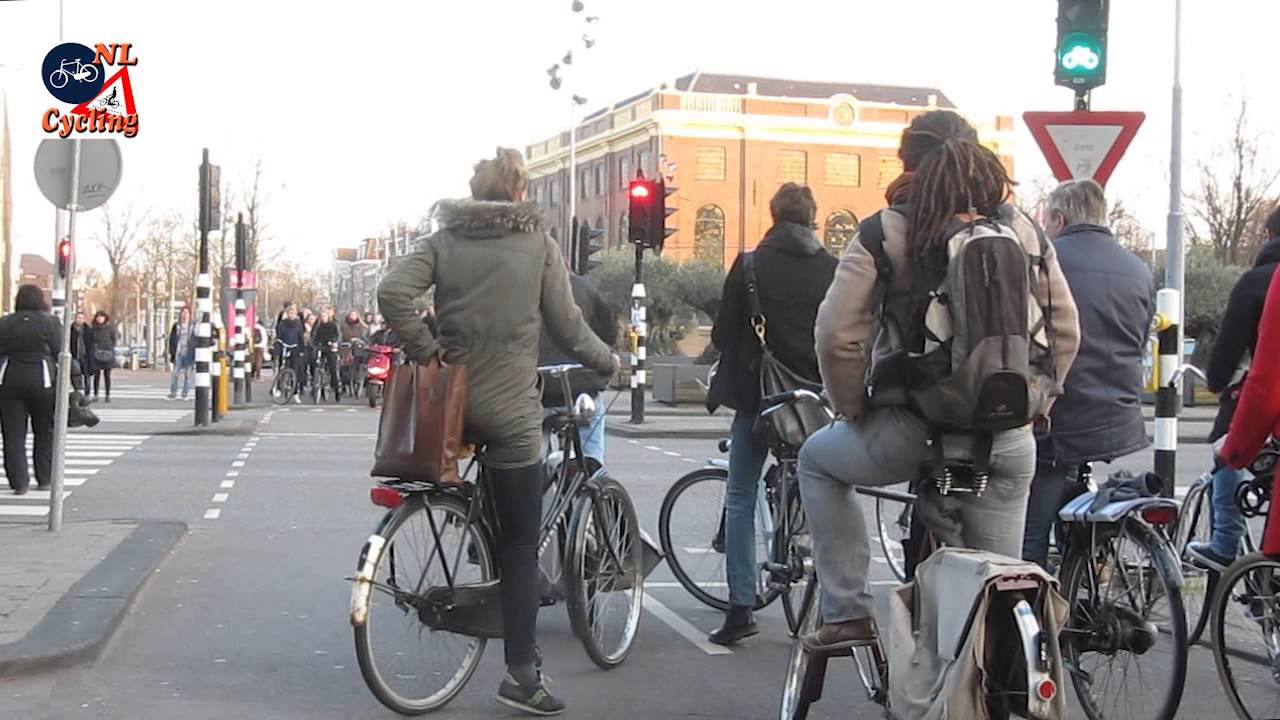commuter: (783, 104, 1084, 720), (345, 146, 652, 717), (660, 183, 856, 649), (1027, 180, 1193, 720)
